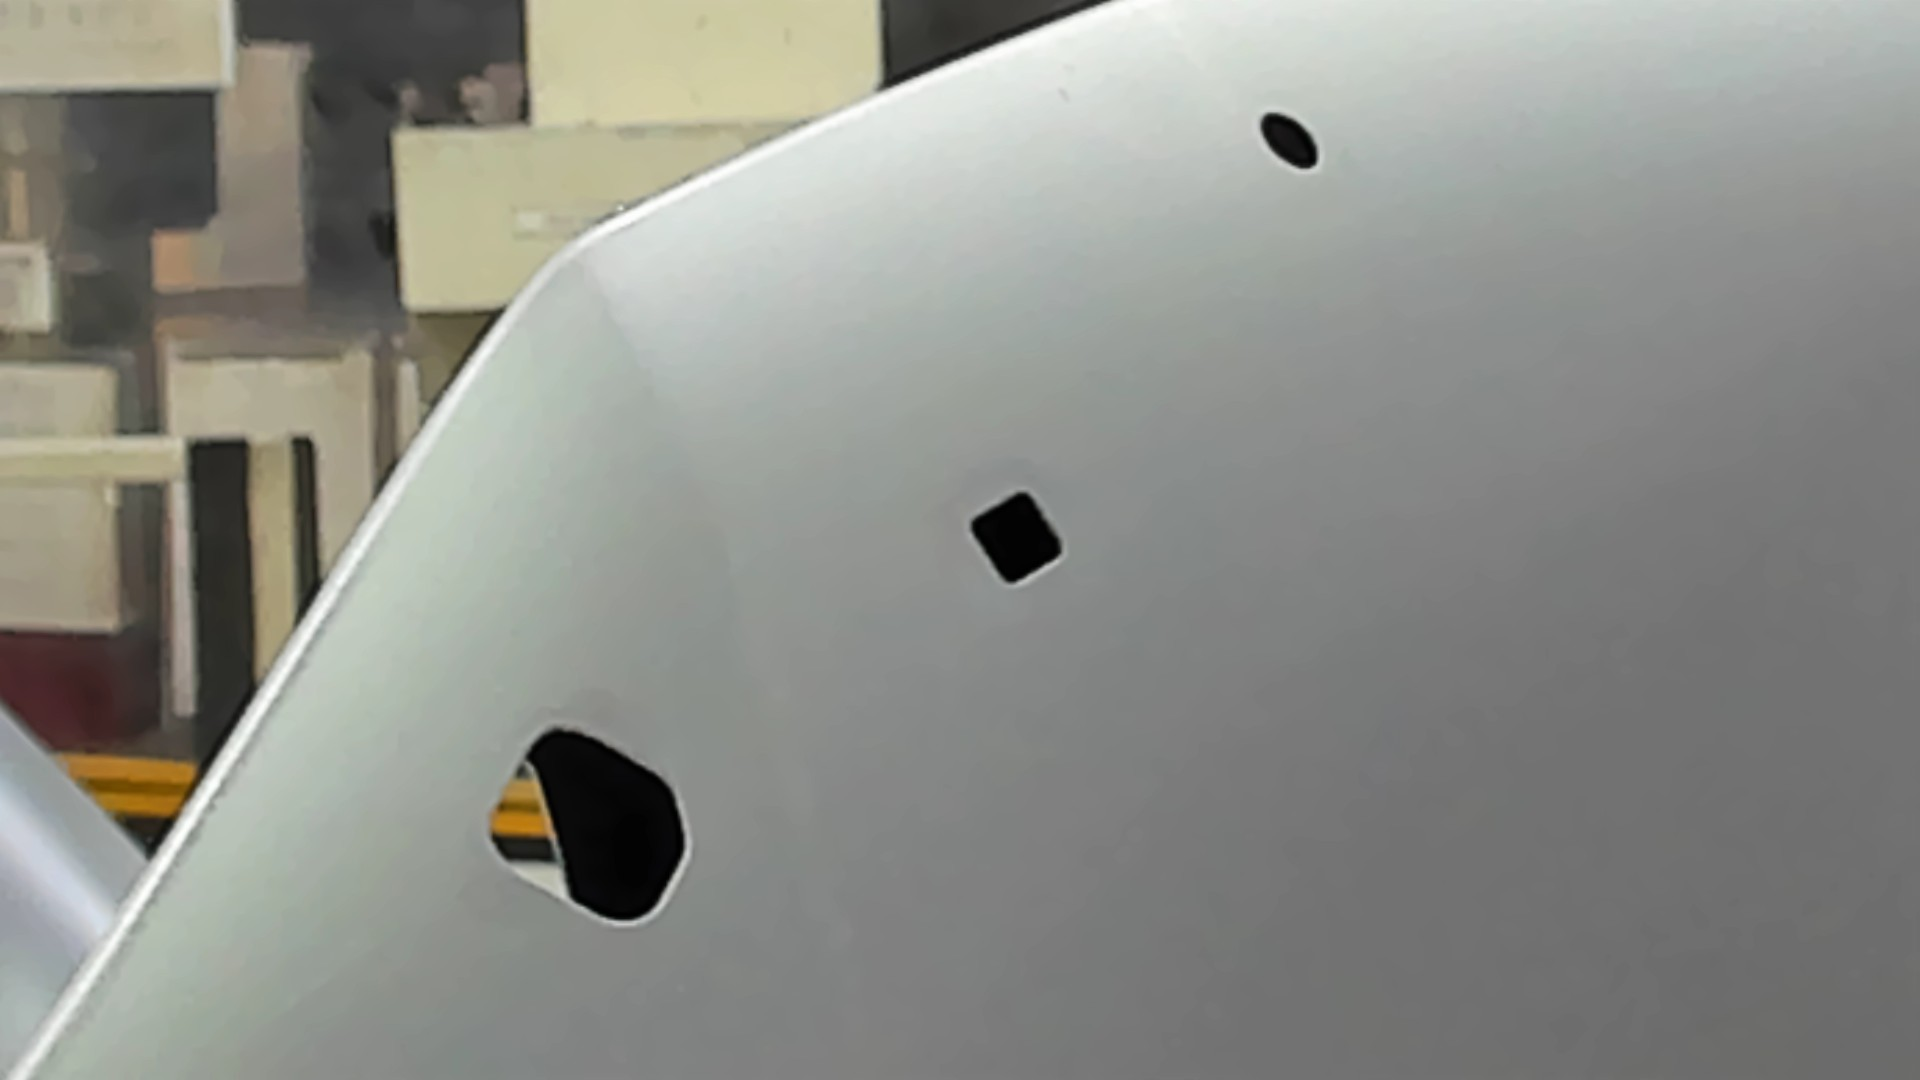capo: (1073, 187, 1920, 1080)
chico: (1254, 104, 1324, 178)
grande: (483, 717, 696, 936)
mediano: (967, 483, 1071, 593)
